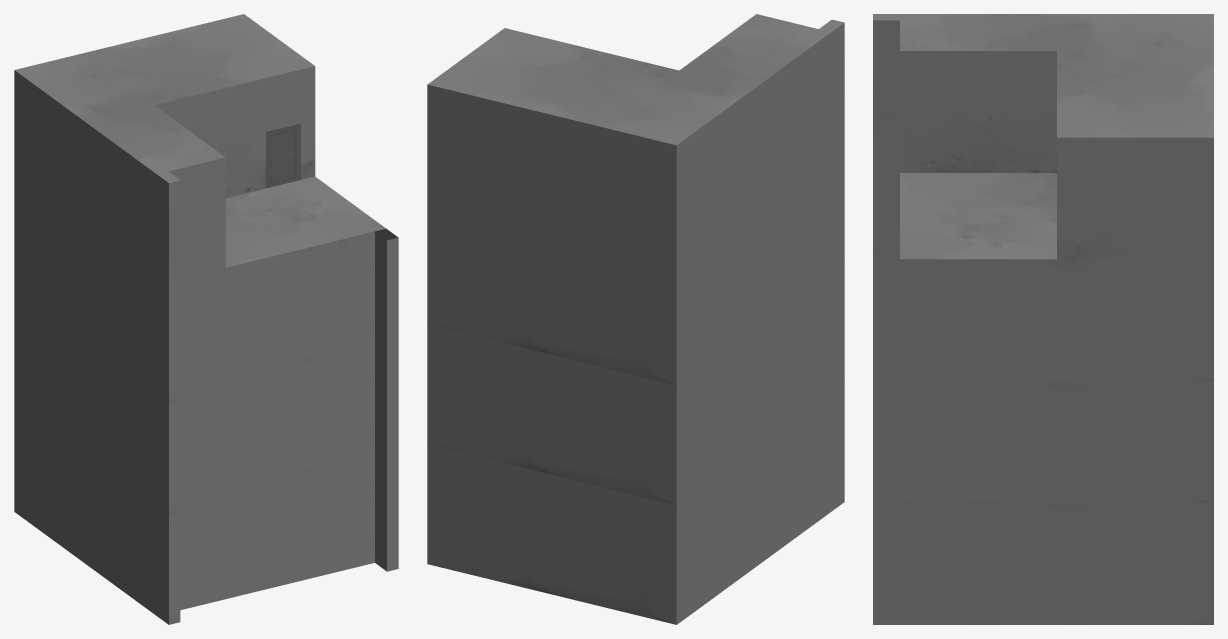
Rendered from BgMD_Building_15_01.fbx.
3 renders of one model, left to right at view 1: azimuth 30°, elevation 25°; view 2: azimuth 150°, elevation 25°; view 3: azimuth 270°, elevation 25°, orthographic. The views are drawn at different scales.
Visible parts, largest first — view 1: pCube199; view 2: pCube199; view 3: pCube199.
Boxes of the visible parts, bbox=[...] form: pCube199: bbox=[14, 14, 398, 624]; pCube199: bbox=[427, 14, 844, 624]; pCube199: bbox=[873, 14, 1213, 624].
Bounding box in the file's own units: 1044 × 1919 × 1217.
